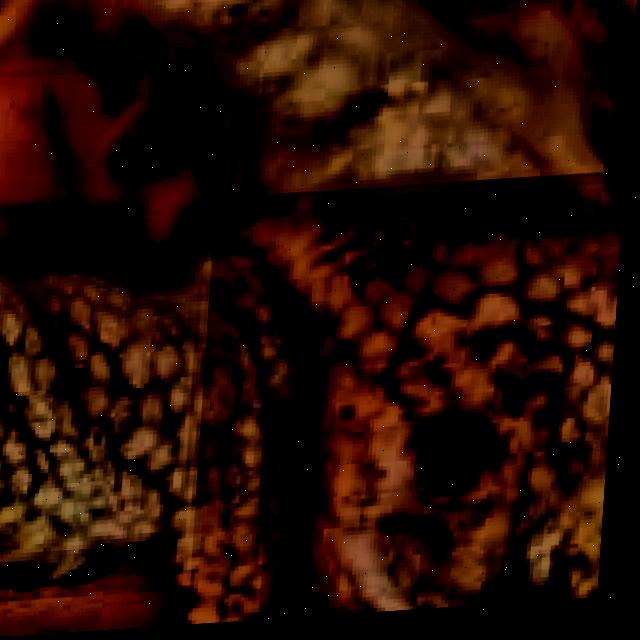Bumble foot: (298, 227, 626, 623)
